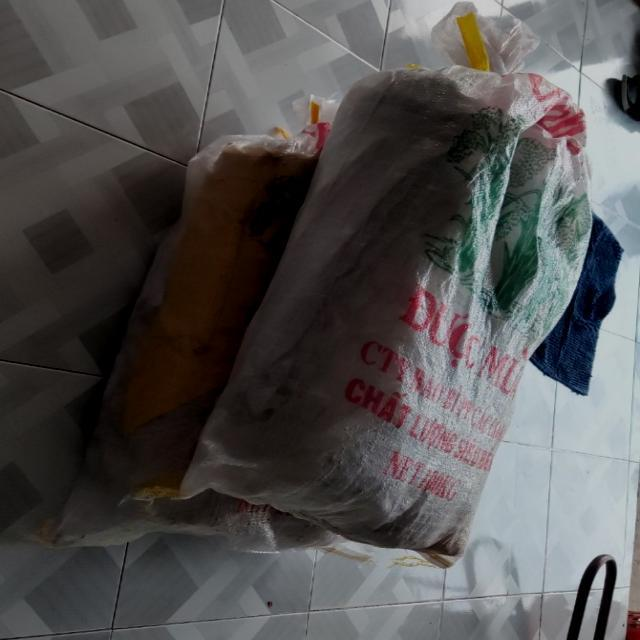gunny_bag: (180, 65, 593, 567), (46, 123, 337, 552)
